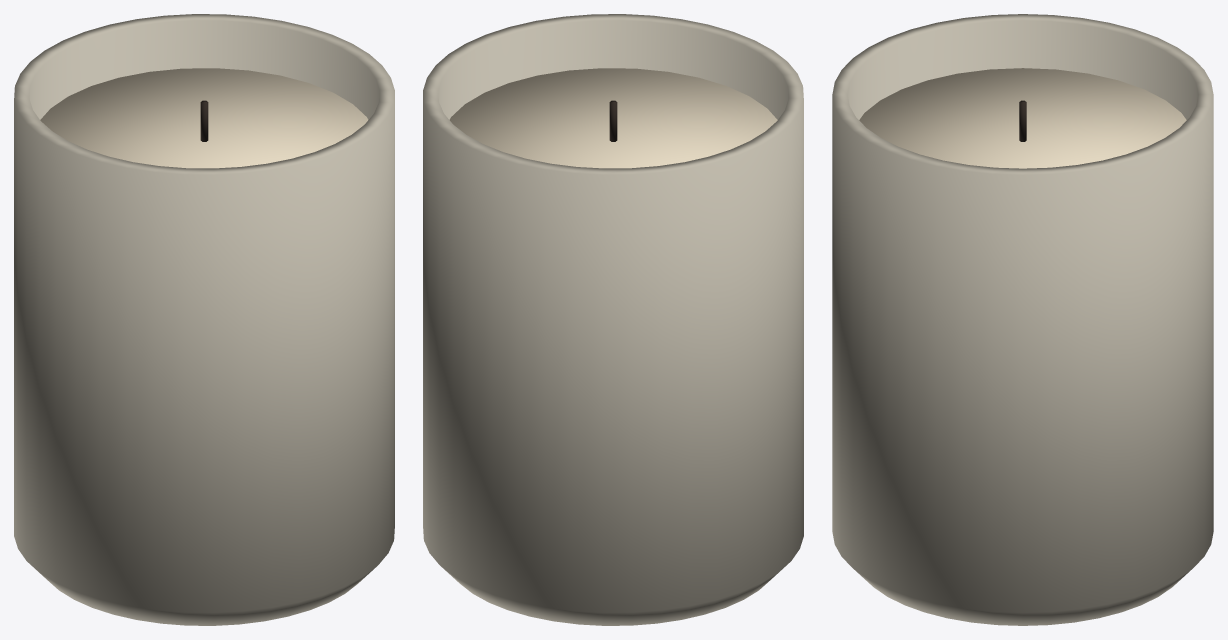
The model's file is shared.candle.gltf.
3 views of the same model, side by side, from view 1: azimuth 30°, elevation 25°; view 2: azimuth 150°, elevation 25°; view 3: azimuth 270°, elevation 25° (orthographic).
Visible parts, largest first — view 1: shared.candle.jar; view 2: shared.candle.jar; view 3: shared.candle.jar.
Boxes of the visible parts, x1,y1,x2,y2 form: shared.candle.jar: (14, 14, 394, 625); shared.candle.jar: (423, 14, 803, 625); shared.candle.jar: (832, 14, 1213, 625).
Size of the model in its own units: 0.09 by 0.12 by 0.09.
